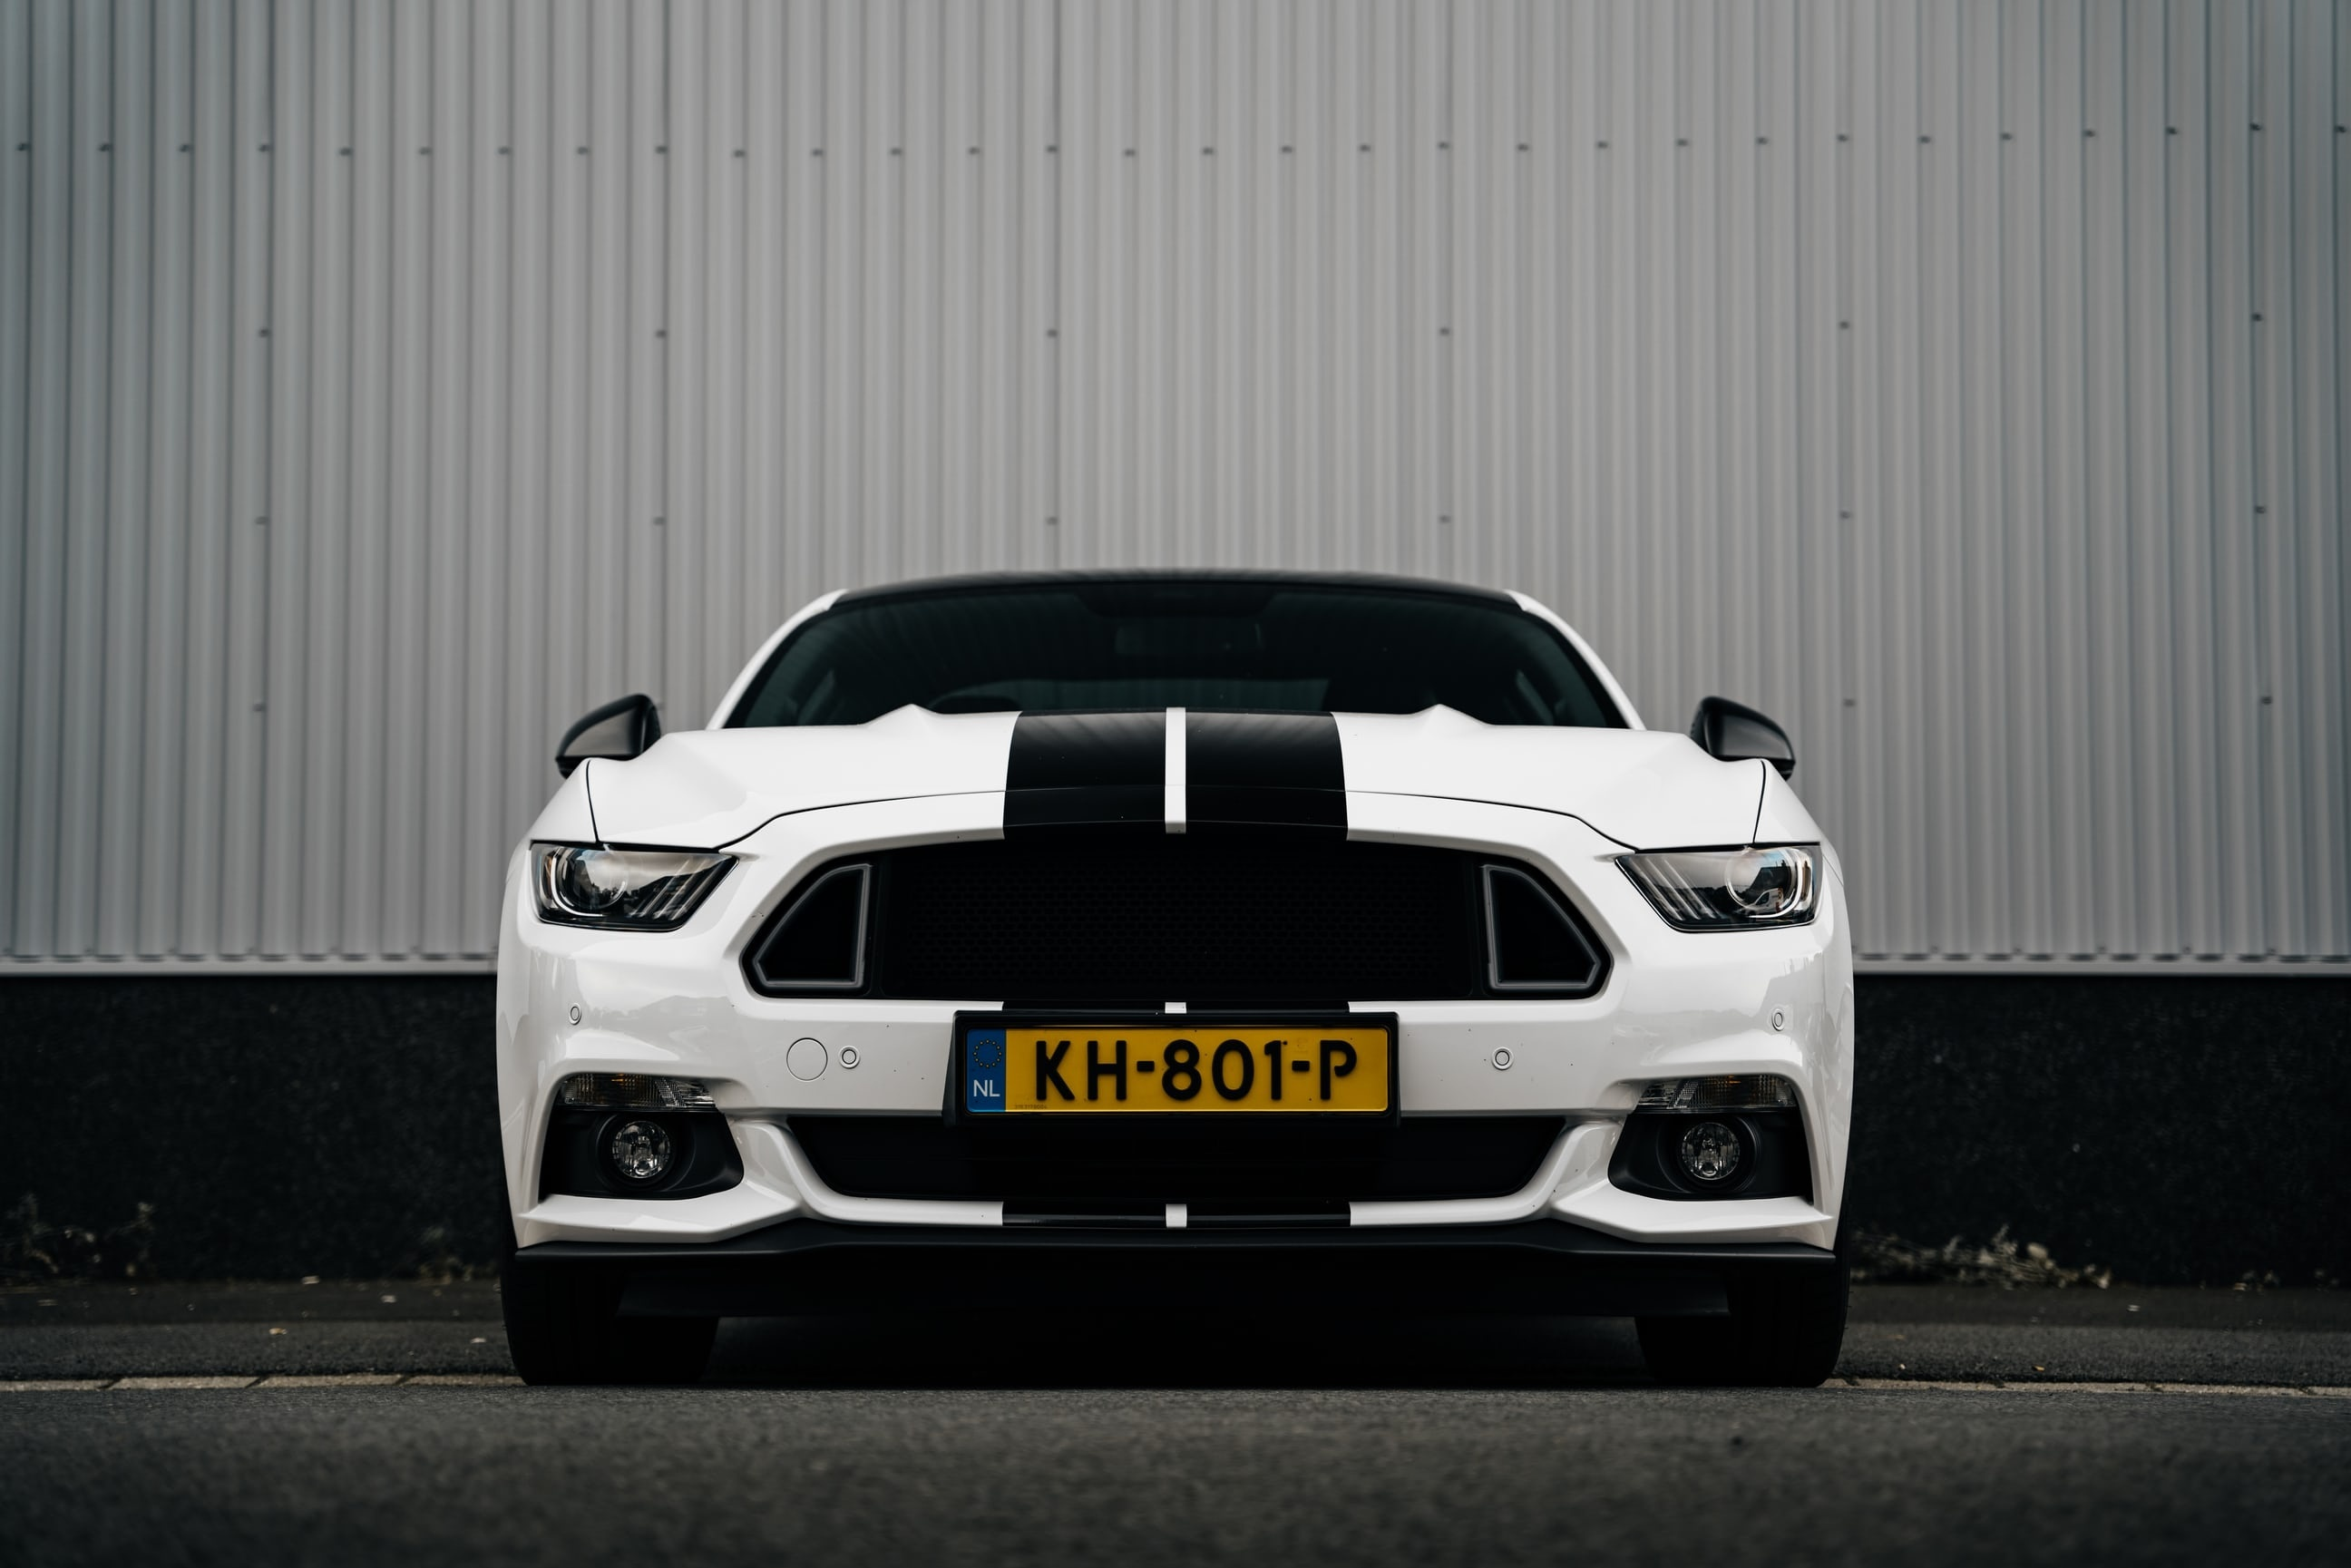plaka: (959, 1022, 1399, 1118)
